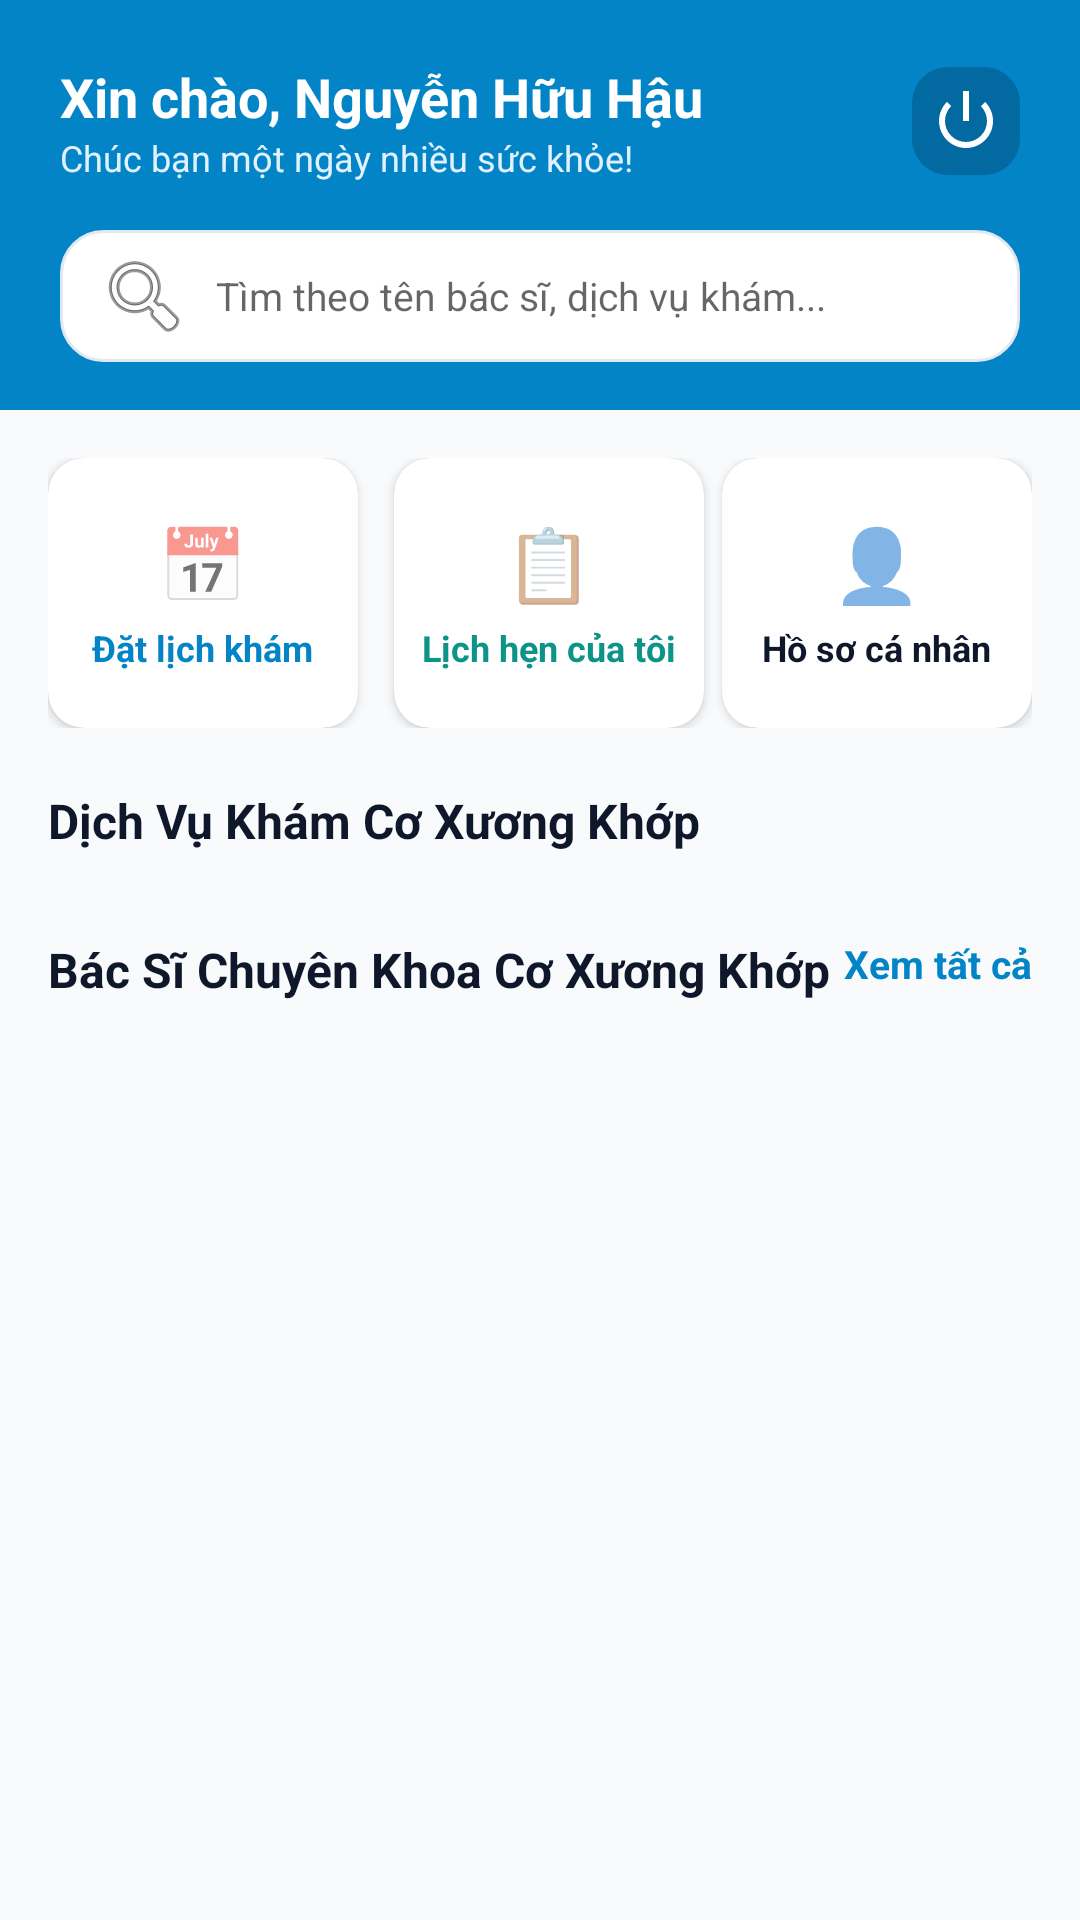

Screen size 1080×1920. Icon name, then its center in pixels as point (x, y):
lock power off: point (966, 121)
